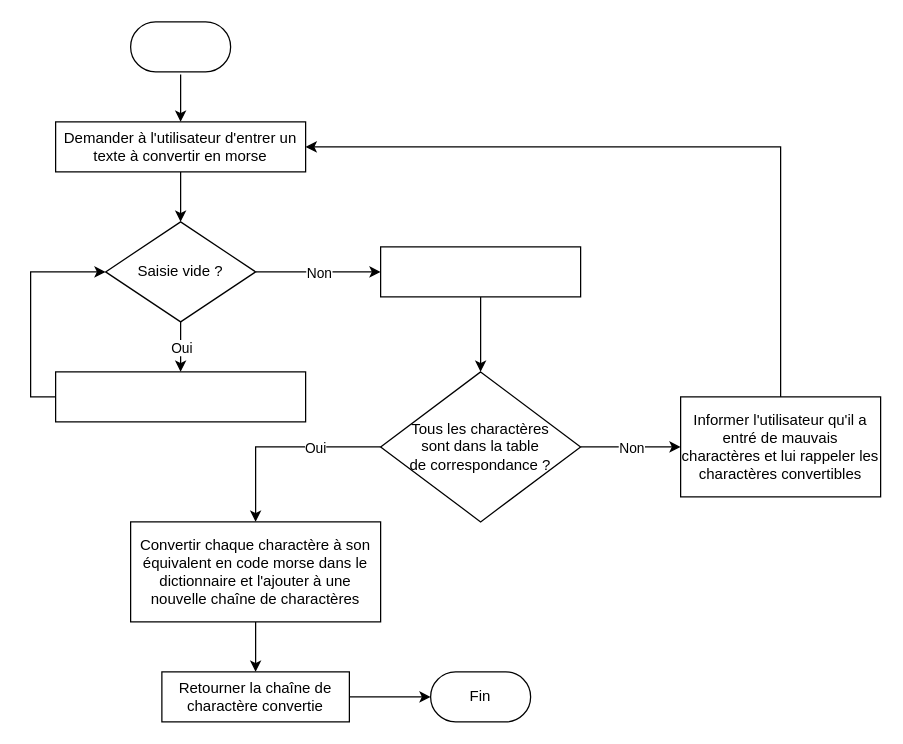
This 903x744 diagram has some shape labels left out. Here are the shapes that lost their labels. From the top down, the centre of each, then its label:
At point 180,46: "Début".
At point 480,271: "Toutes les minuscules sont transformées en majuscules".
At point 180,396: "Informer l'utilisateur que la saisie est vide et qu'il doit réessayer".
